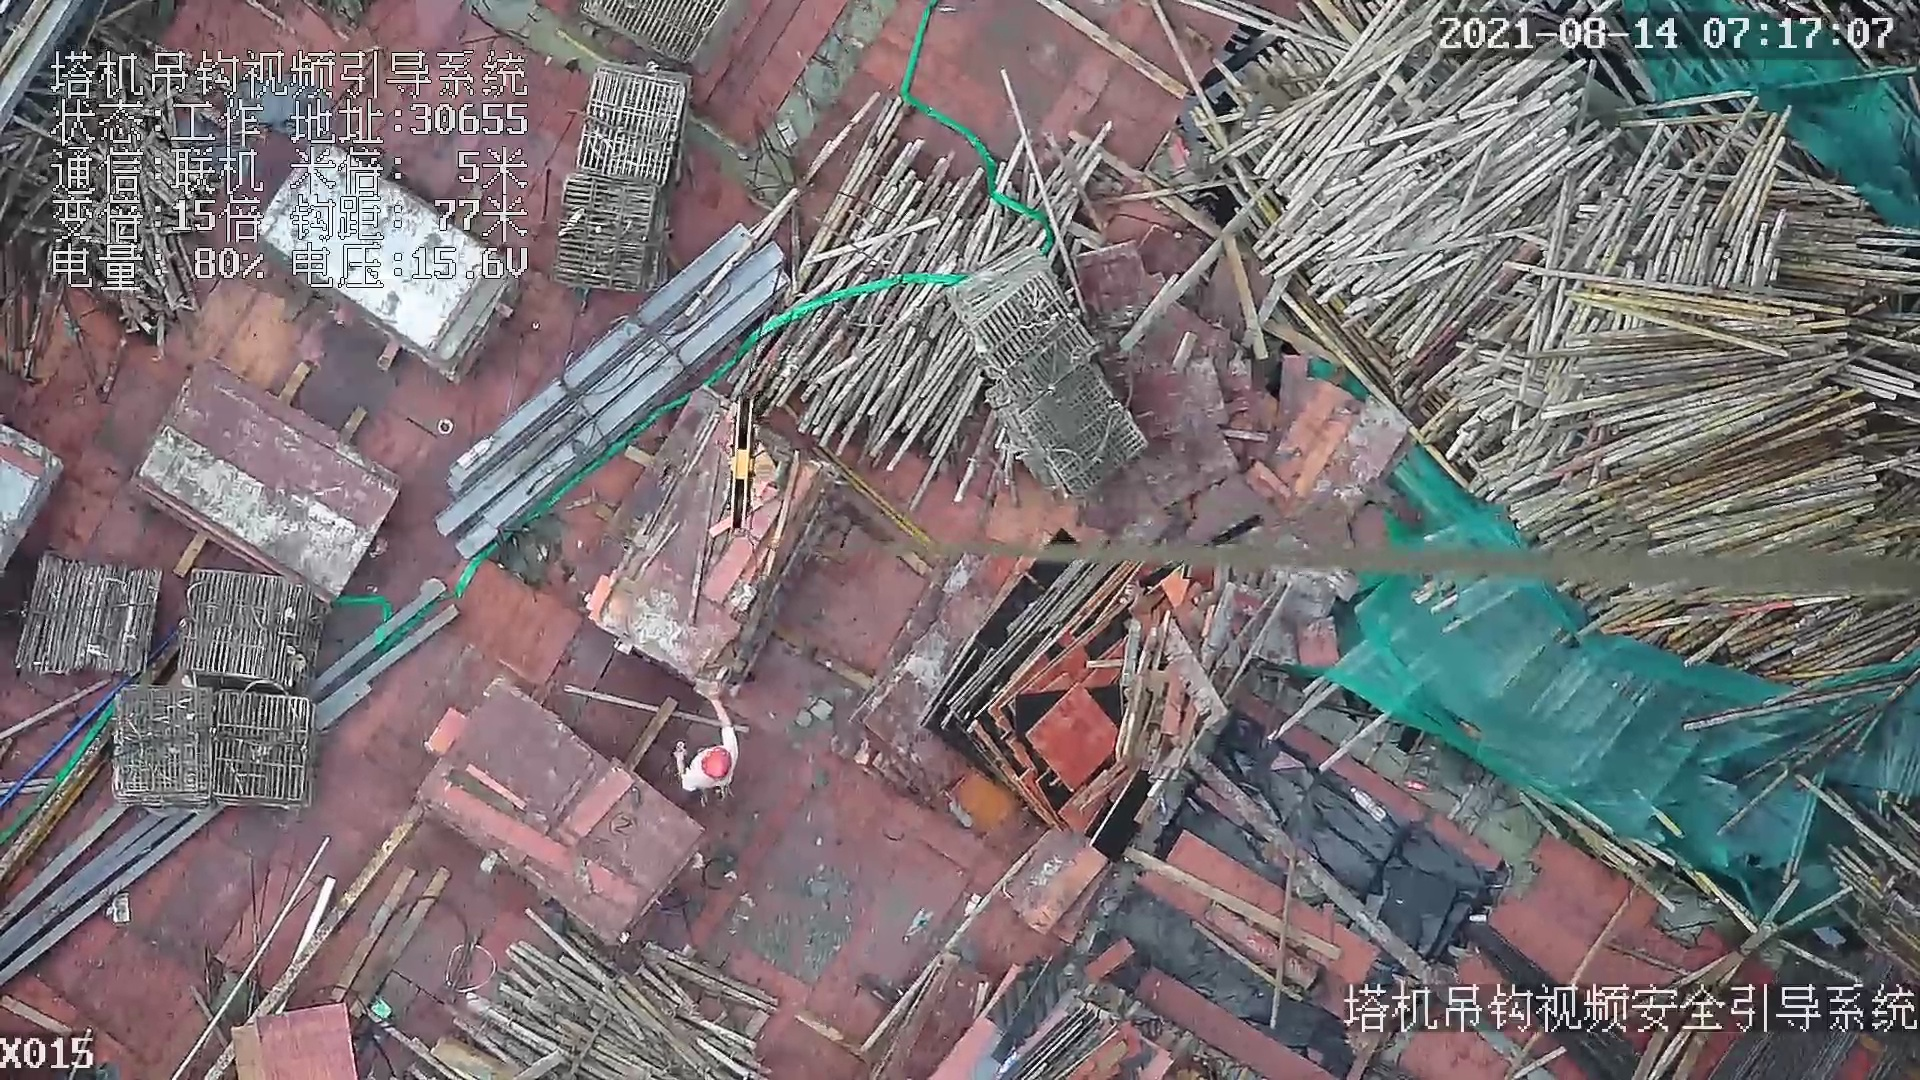helmet: (699, 738, 741, 789)
hook: (722, 387, 756, 539)
person: (669, 685, 750, 795)
